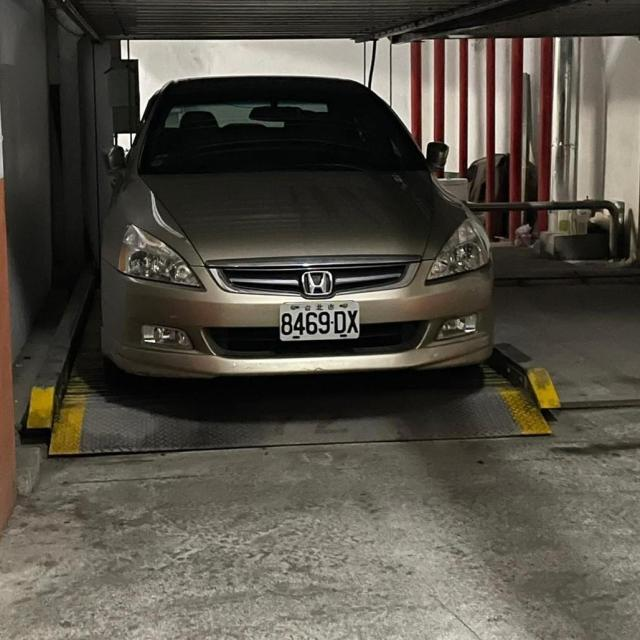W: (276, 295, 363, 344)
